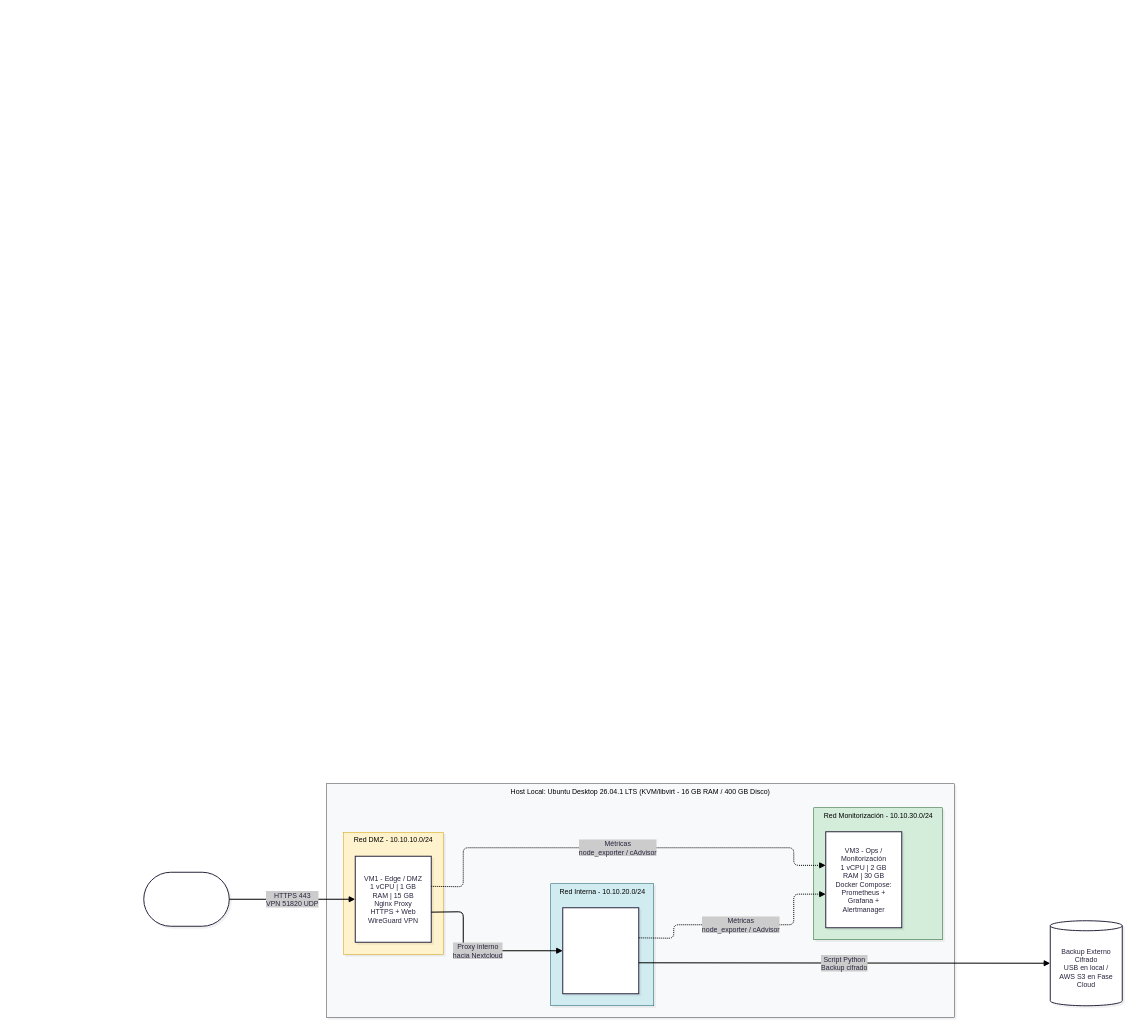
Some shapes in this 1133 by 1028 pixel diagram are drawn without their labels. The centre of each missing label's shape, as x and y in pixels:
Usuarios y Empleados (Internet / Exterior): the point at 187,900
VM2 - Core / Apps 2 vCPU | 5 GB RAM | 120 GB Docker Compose: Nextcloud + MariaDB: the point at 601,951
